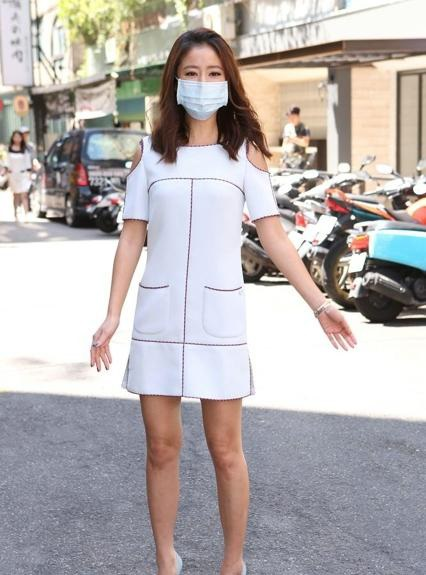face_mask: (177, 45, 224, 119)
